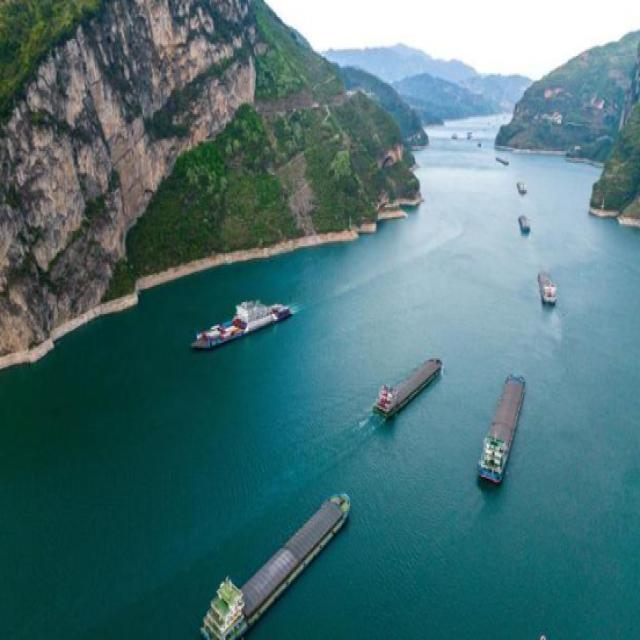cargoship: (192, 477, 356, 640), (474, 364, 526, 491), (191, 286, 294, 344), (368, 348, 448, 422), (538, 270, 562, 314), (515, 210, 532, 238)
